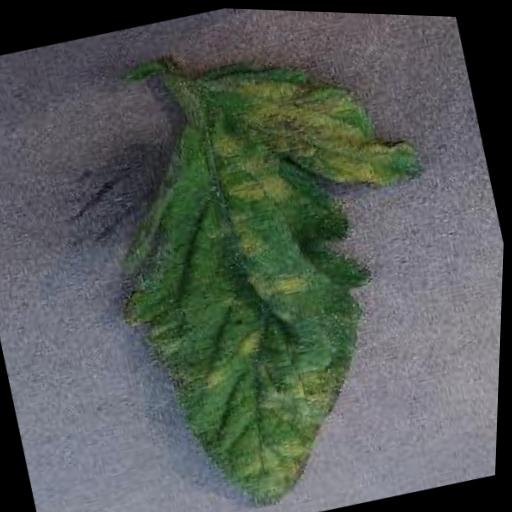Leaf Mold: (71, 22, 501, 512)
